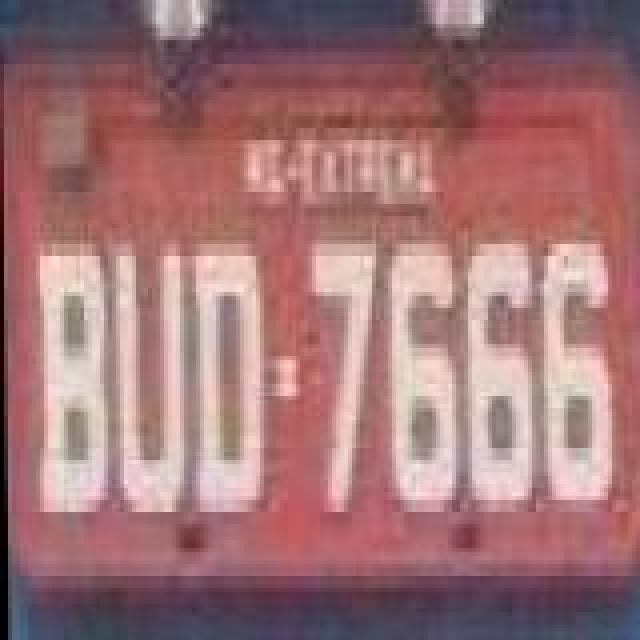6: (462, 234, 538, 518), (538, 234, 614, 518), (382, 250, 458, 518)
7: (306, 242, 382, 526)
B: (34, 242, 110, 526)
D: (188, 250, 268, 534)
U: (108, 242, 188, 526)
